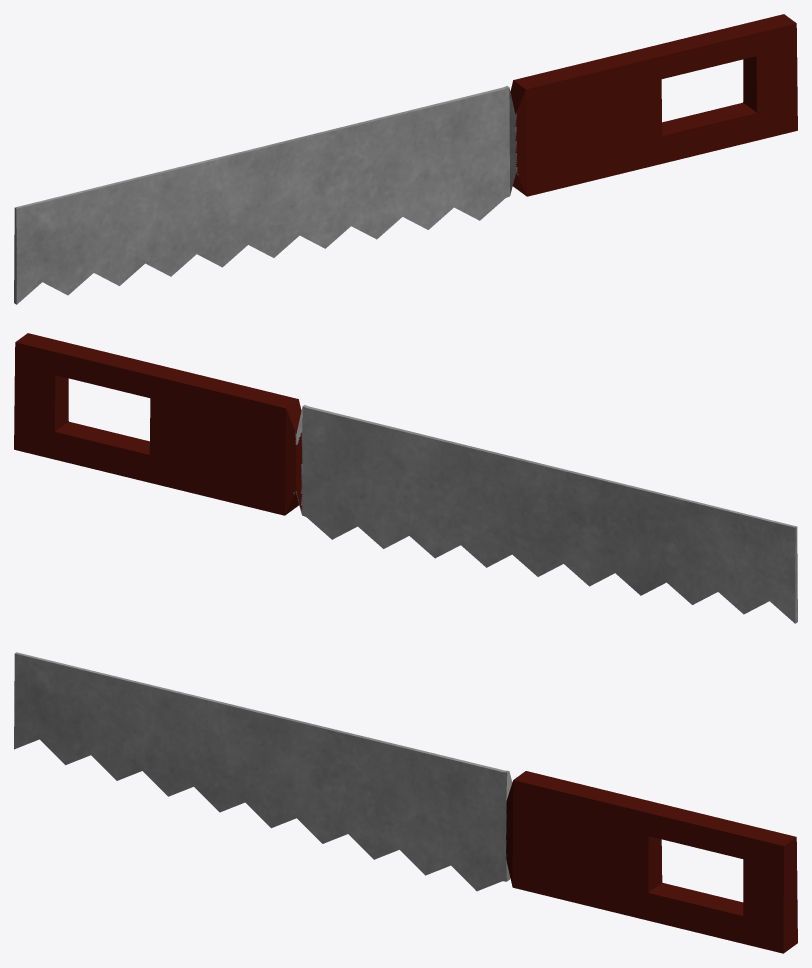
The model's file is Cerrucho.fbx.
The picture shows the model from 3 angles, top to bottom: view 1: azimuth 30°, elevation 25°; view 2: azimuth 150°, elevation 25°; view 3: azimuth 330°, elevation 25°; orthographic projection.
Parts seen in each view (by area): view 1: Cerrucho; view 2: Cerrucho; view 3: Cerrucho.
Boxes of the visible parts, x1,y1,x2,y2 form: Cerrucho: (14, 14, 797, 304); Cerrucho: (14, 333, 797, 623); Cerrucho: (14, 652, 797, 953).
Bounding box in the file's own units: 366 × 56.8 × 11.84.
Materials: 1 (1 with a texture image).
